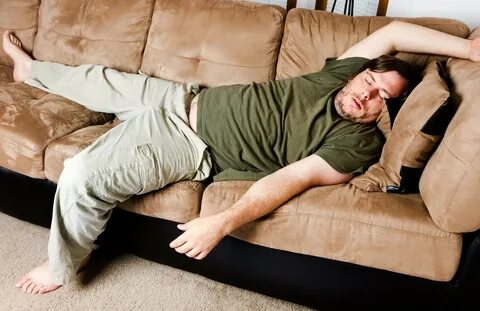sleep: (1, 39, 420, 180)
